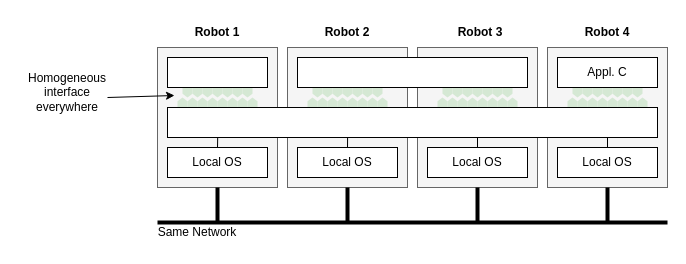
Image size: 686x264. Some labels were removed from this diagram. The shapes that lost their labels are listed below. From the top down, each one's centre as x and y in pixels, then its label:
At (x=217, y=72): "Appl. A".
At (x=412, y=72): "Appl. B".
At (x=412, y=122): "Distributed-system layer (middleware)".
